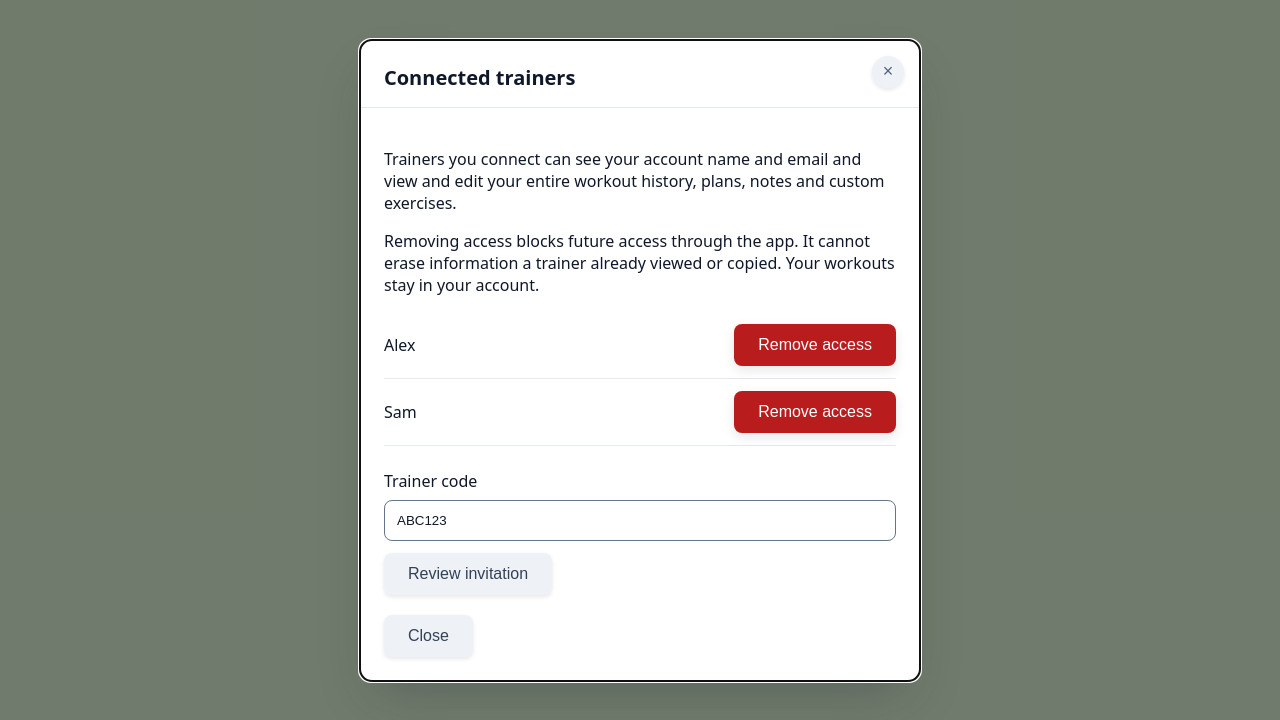
trainer access consent › removes only the selected trainer and refreshes the list
The width and height of the screenshot is (1280, 720).
Click the button with aria-label "Remove access: Alex".
click(815, 344)  # box [734,324,896,366]
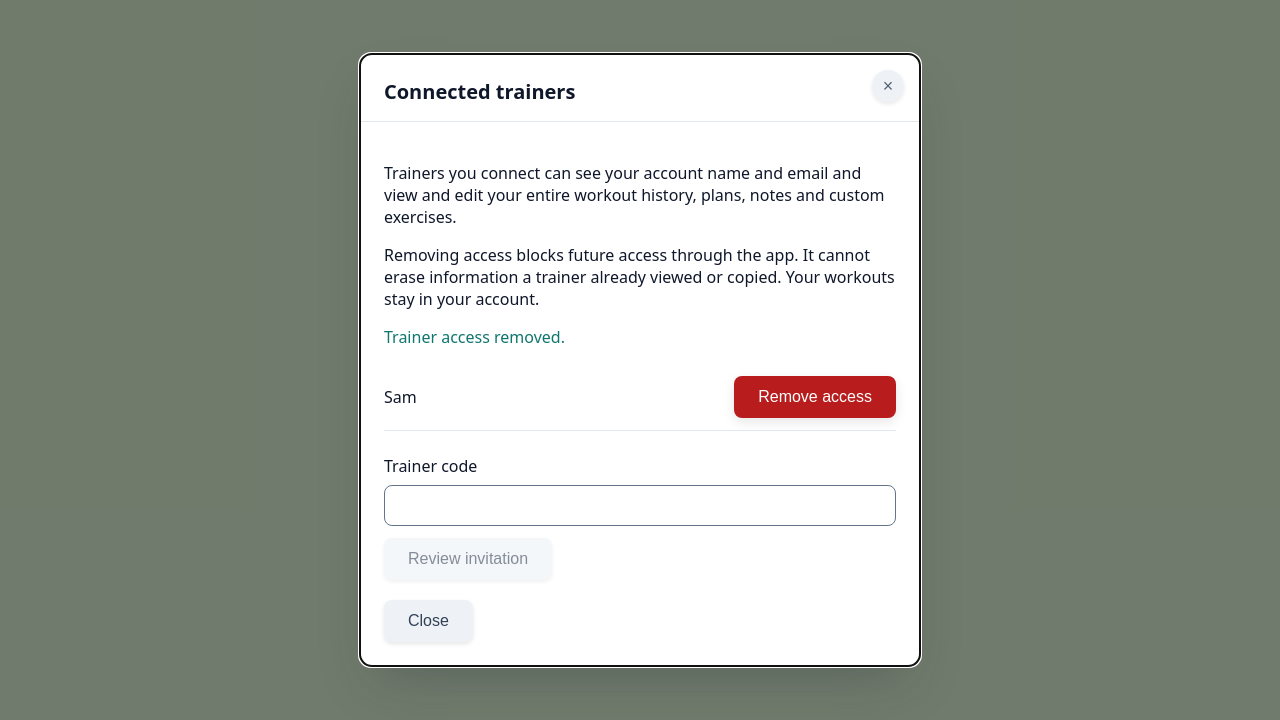
Check: the text "Sam" is shown, box [384,386,417,408]
Check: the text "Alex" is gone
